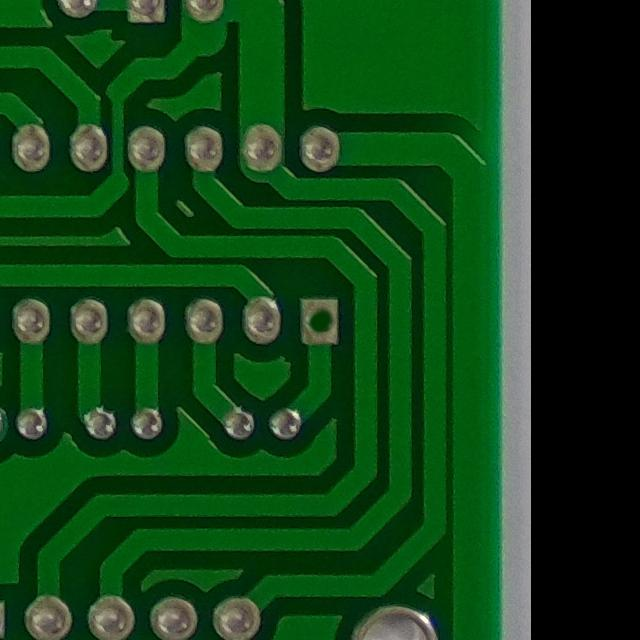missing_hole: (292, 289, 350, 353)
